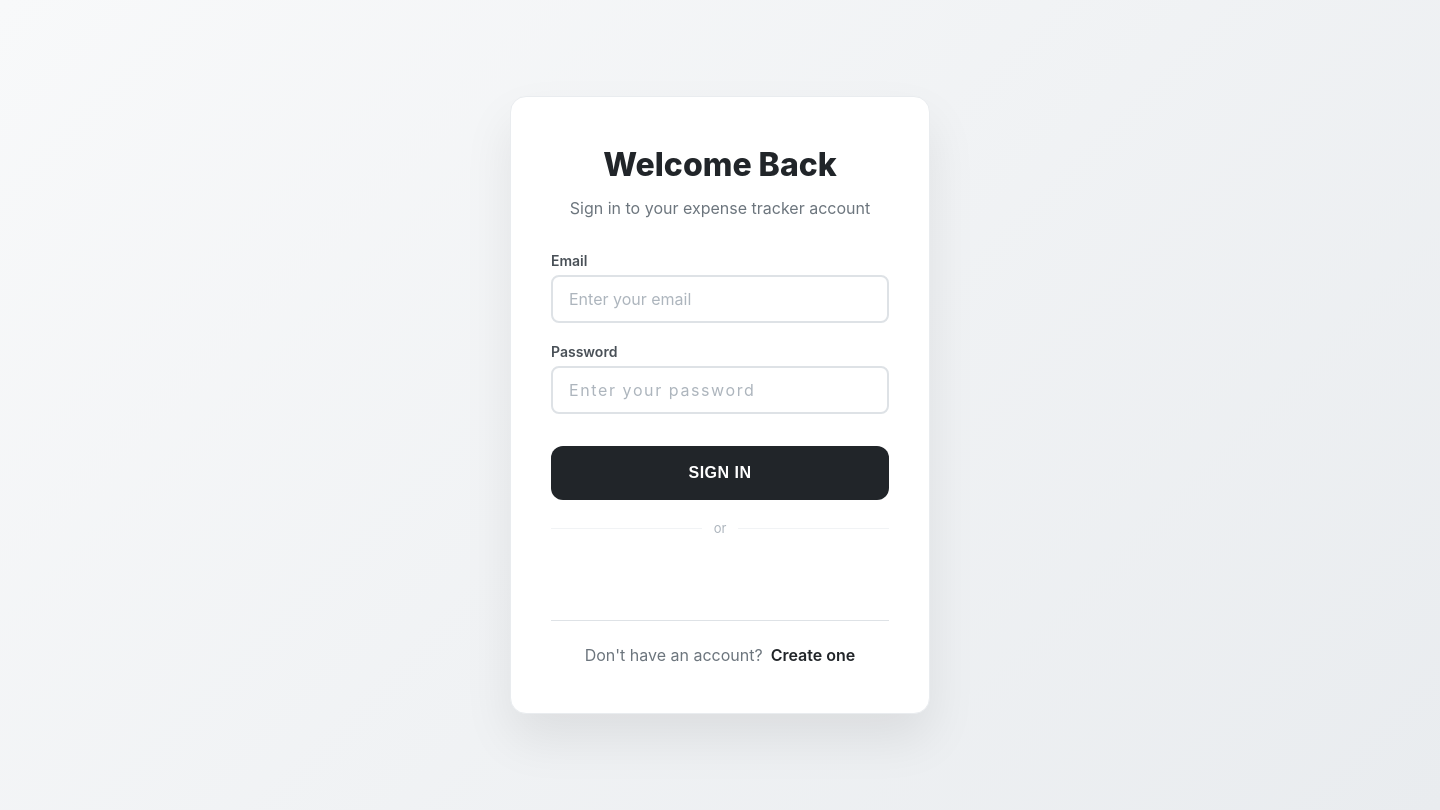
Test case: Login › should show loading state during login
The width and height of the screenshot is (1440, 810).
Type "test@example.com" into the field labelled "Email" at (720, 299), box [551,275,889,323]
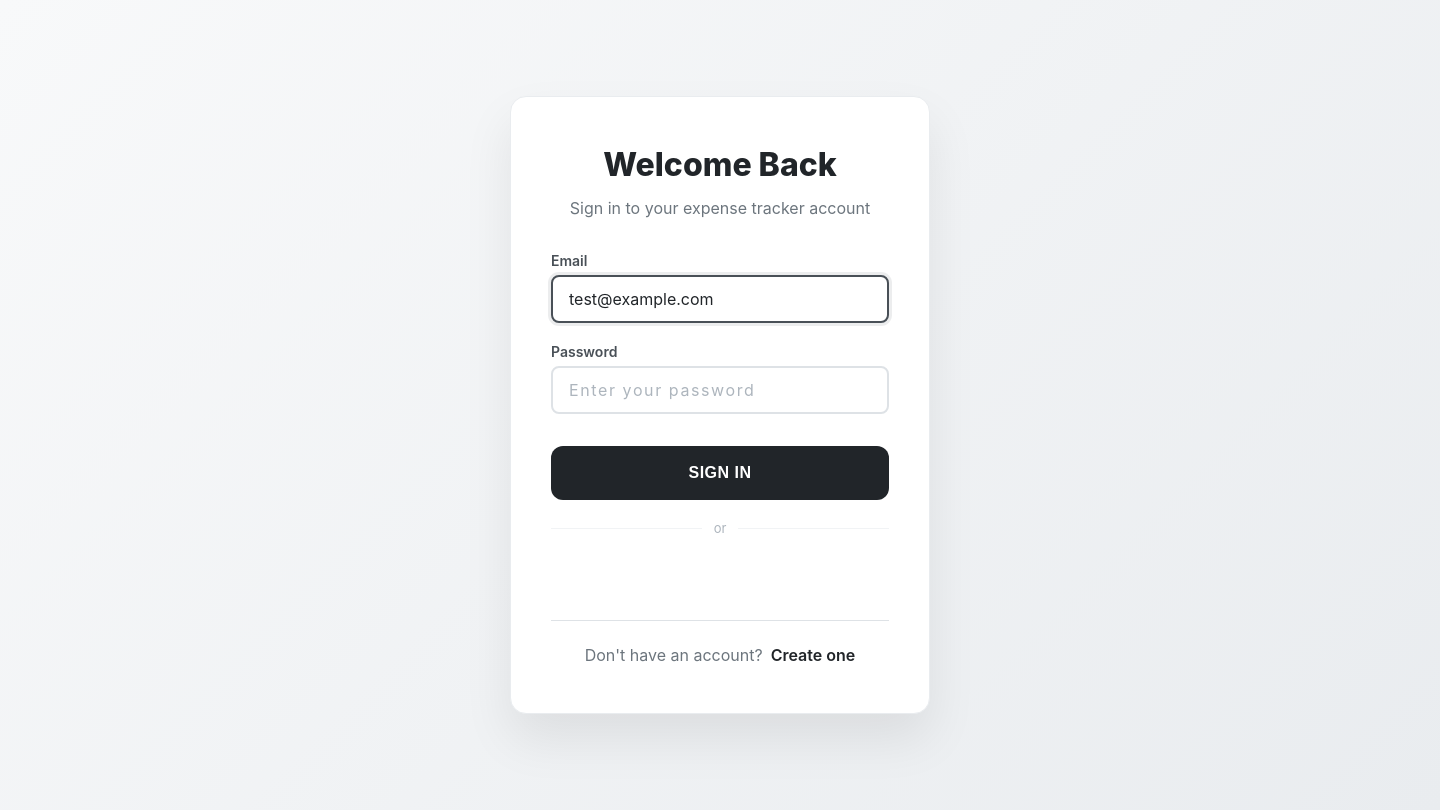
Type "password123" into the password field labelled "Password" at (720, 390), box [551,366,889,414]
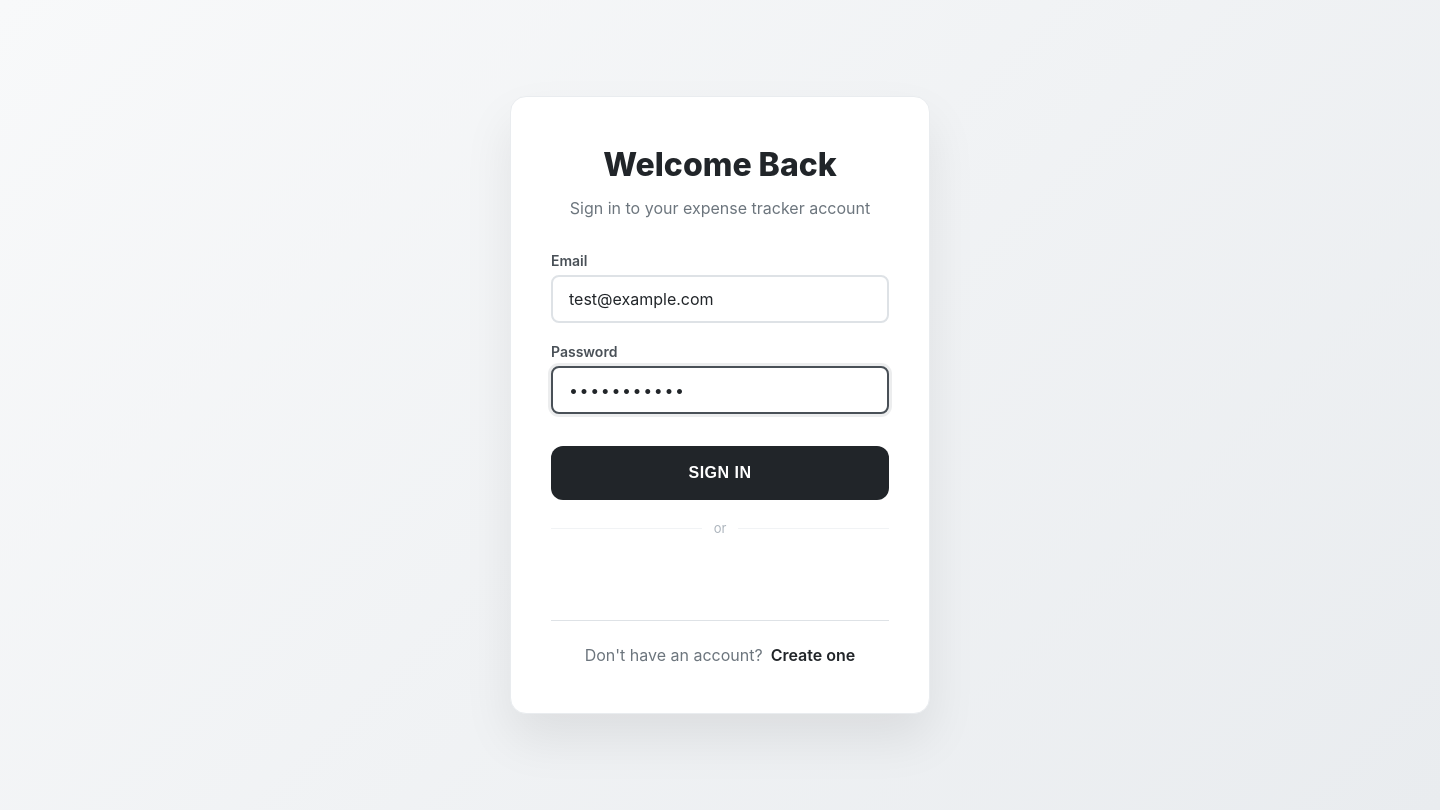
Click the button "Sign In" at (720, 473), box [551,446,889,500]
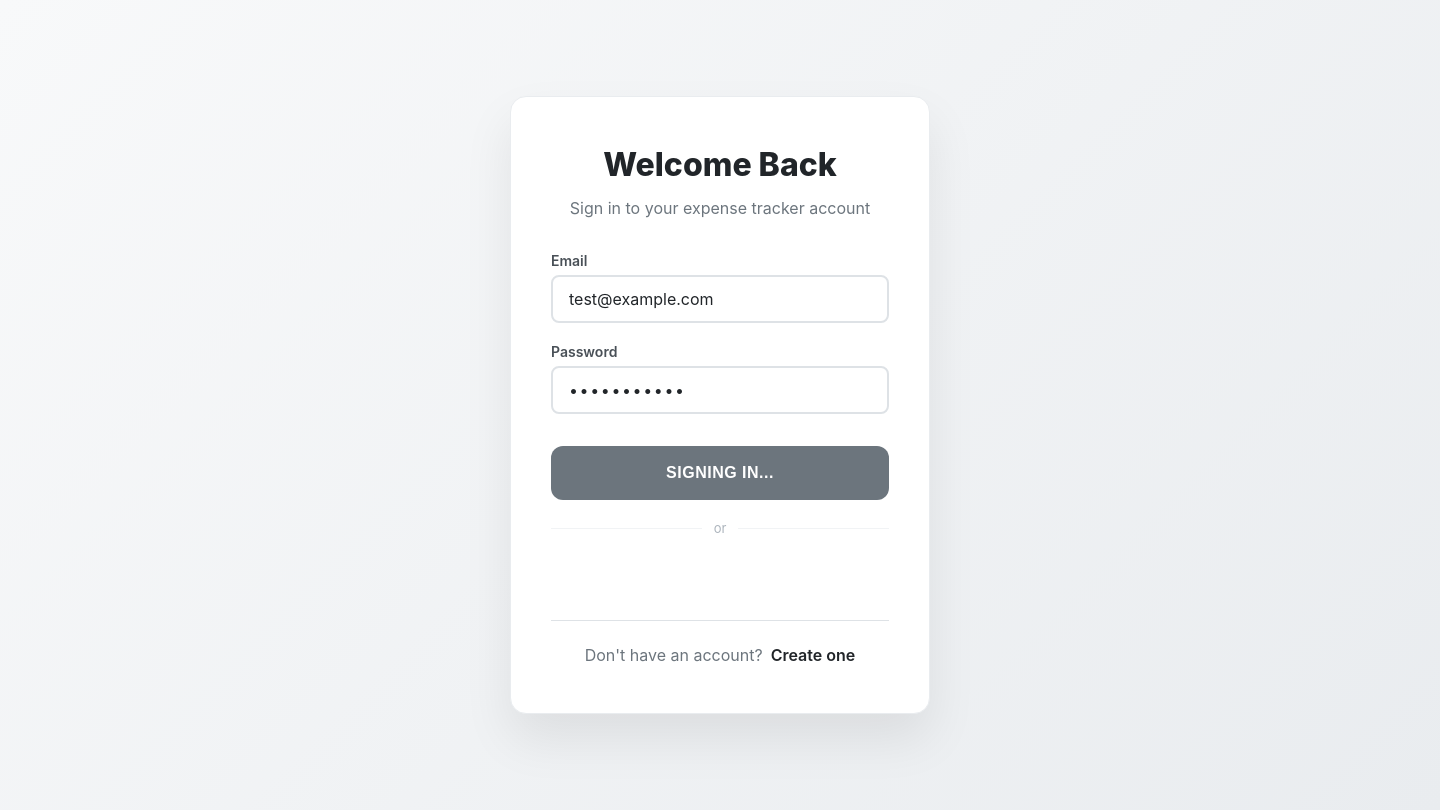
Expected: the button "Signing in..." is disabled, [551,446,889,500]
